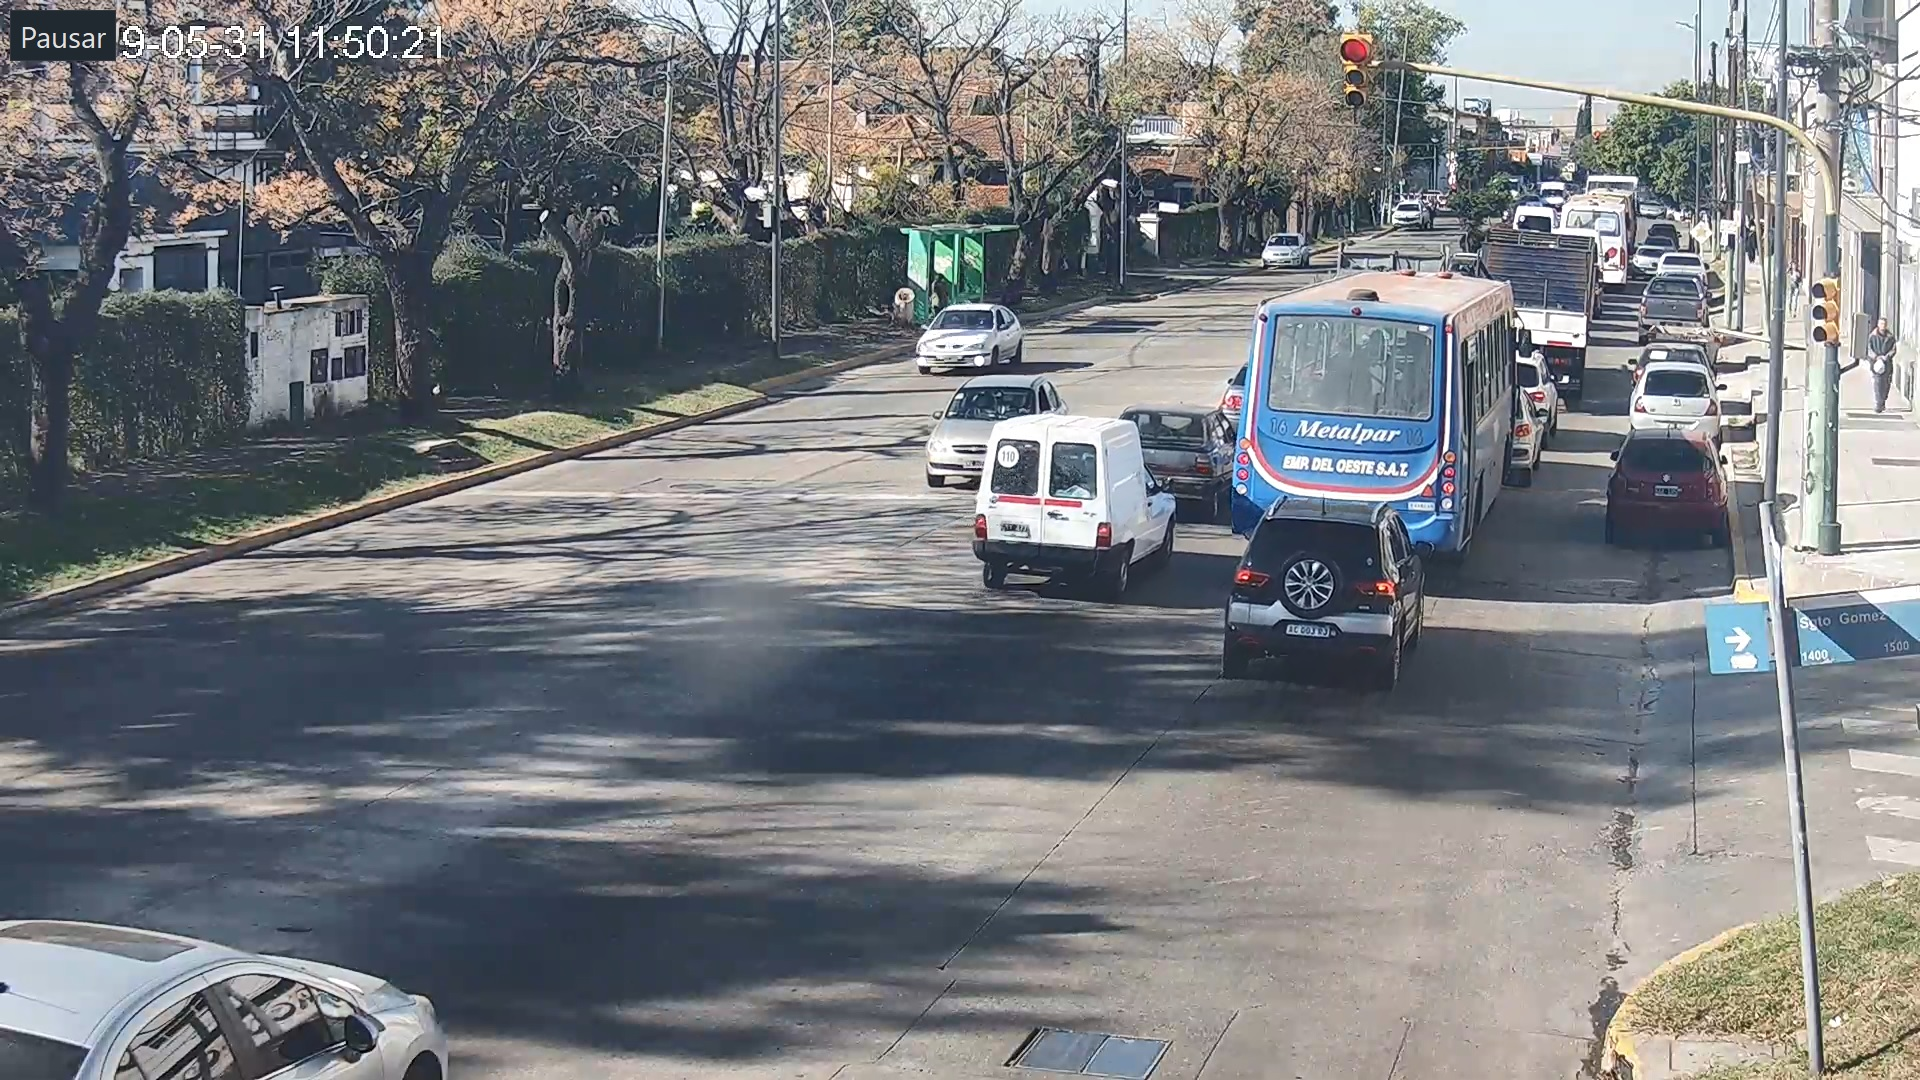bus: (1244, 269, 1530, 546)
car: (1, 919, 451, 1080), (1225, 500, 1428, 683), (976, 415, 1179, 592), (1598, 430, 1734, 545), (926, 378, 1059, 479), (1619, 353, 1729, 433), (916, 301, 1023, 371), (1247, 228, 1317, 266)
